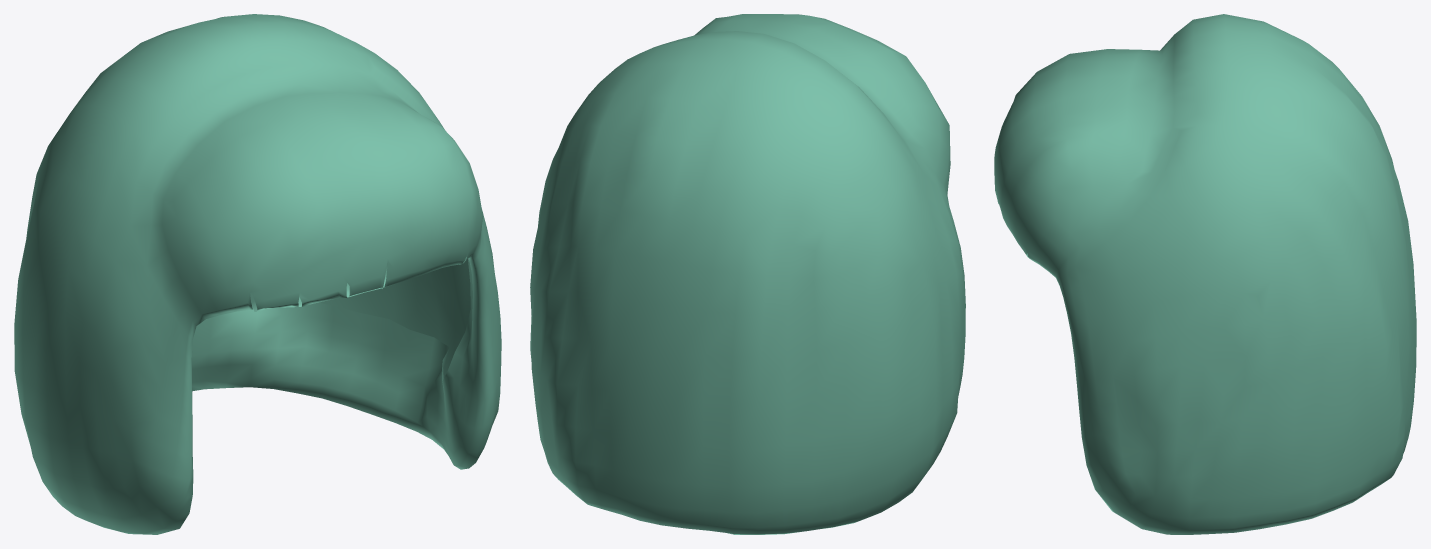
Rendered from Girl Hair 03.glb.
3 renders of one model, left to right at view 1: azimuth 30°, elevation 25°; view 2: azimuth 150°, elevation 25°; view 3: azimuth 270°, elevation 25°, orthographic. The views are drawn at different scales.
Visible parts, largest first — view 1: GirlHair3; view 2: GirlHair3; view 3: GirlHair3.
Boxes of the visible parts, x1,y1,x2,y2 form: GirlHair3: [14, 14, 501, 534]; GirlHair3: [530, 14, 965, 534]; GirlHair3: [994, 14, 1416, 534].
Bounding box in the file's own units: 0.0102 × 0.0108 × 0.00982.
